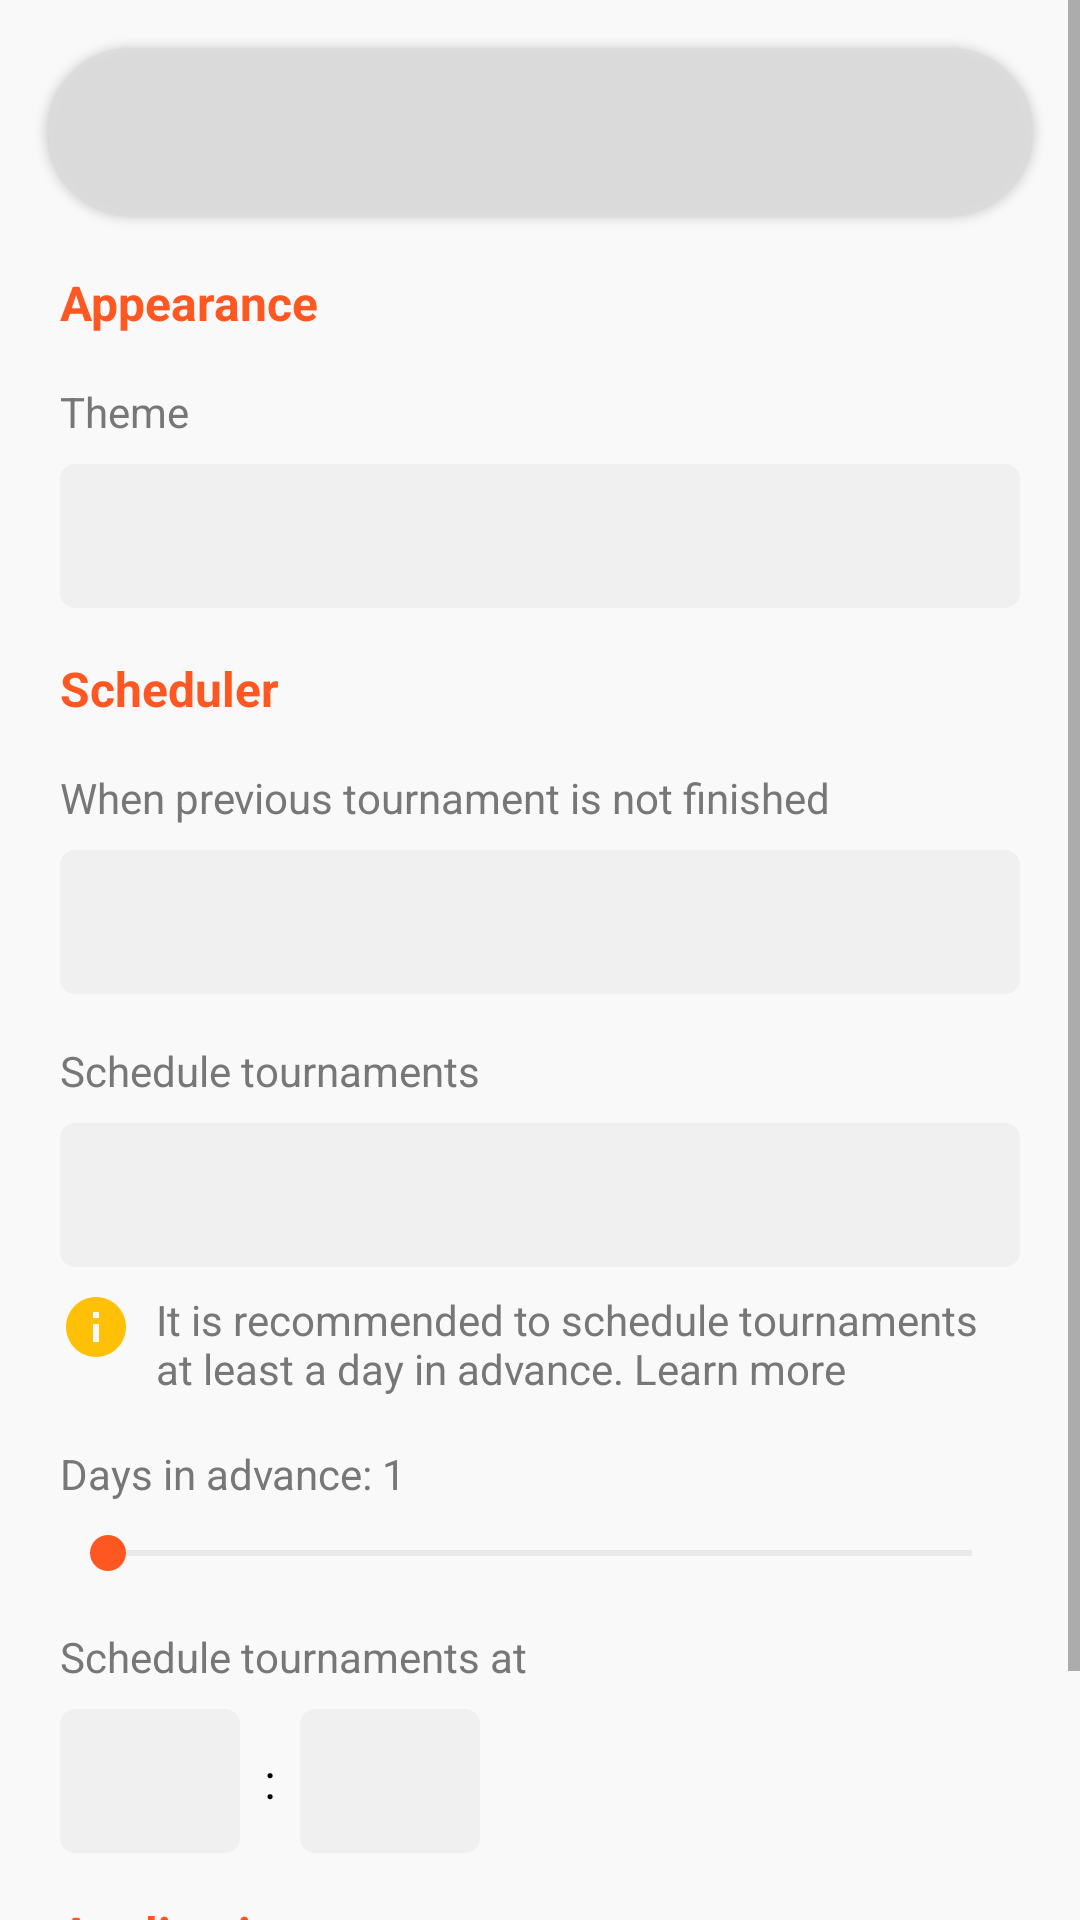

Locate icon controls on the screen. Image size 1080px×1920px, boxes as (x1, y1, x2, y2).
info: (66, 1297, 126, 1357)
